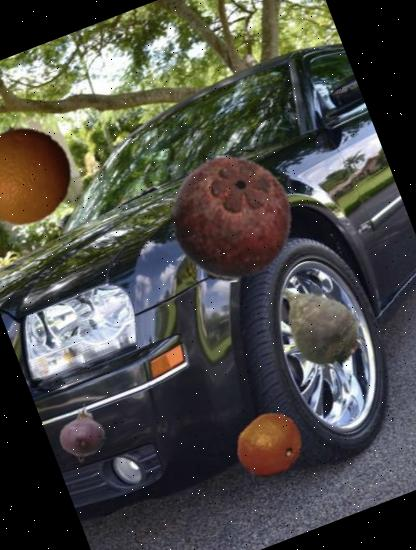Beetroot: (249, 256, 382, 388)
Clementine: (223, 401, 315, 493)
Mangostan: (150, 136, 314, 300)
Onion: (42, 390, 126, 473)
Orange: (0, 113, 88, 241)
